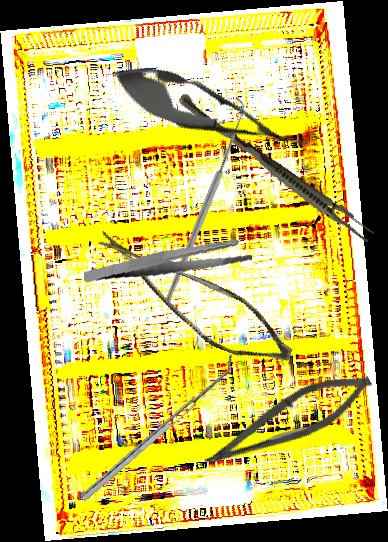Dressing Forceps: (83, 224, 254, 300)
Hook Surgical: (92, 96, 313, 307)
Micro Scissor: (77, 230, 308, 374), (103, 51, 315, 171), (197, 356, 380, 489)
Spatula Surgical: (74, 353, 242, 502)
Tissue Forceps: (172, 92, 378, 245)
